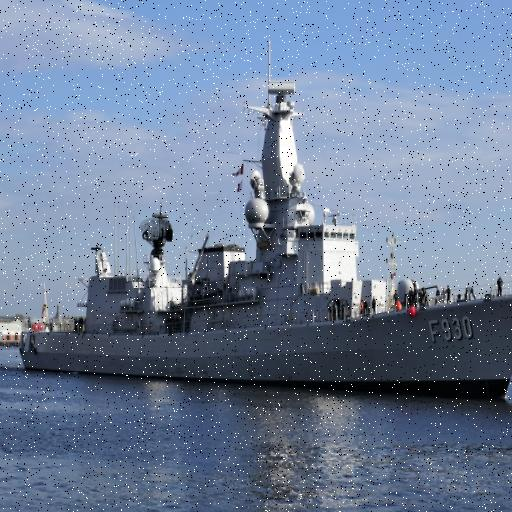Fragata: (15, 41, 512, 404)
